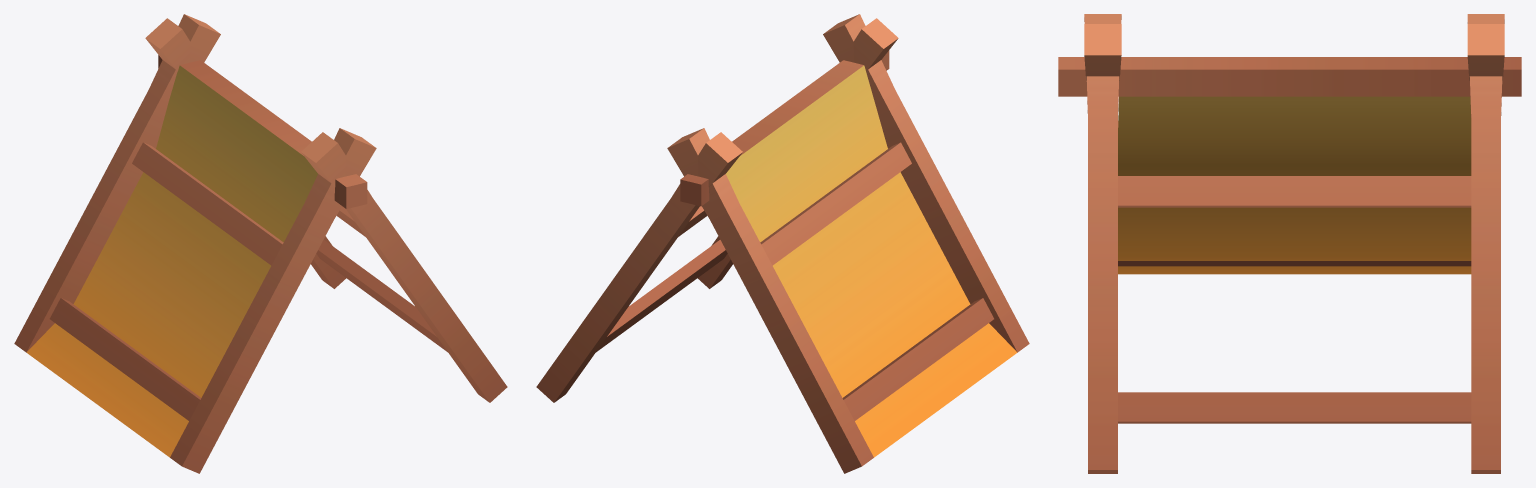
Rendered from kenney-survival-tent-canvas-half.glb.
The picture shows the model from 3 angles, left to right: view 1: azimuth 30°, elevation 25°; view 2: azimuth 150°, elevation 25°; view 3: azimuth 270°, elevation 25°; orthographic projection. The views are drawn at different scales.
Visible parts, largest first — view 1: tent-canvas-half; view 2: tent-canvas-half; view 3: tent-canvas-half.
Boxes of the visible parts, x1,y1,x2,y2 form: tent-canvas-half: (14,14,507,473); tent-canvas-half: (536,14,1029,473); tent-canvas-half: (1058,14,1521,473).
Size of the model in its own units: 0.5608 by 0.4914 by 0.561.
Materials: 1 (1 with a texture image).
